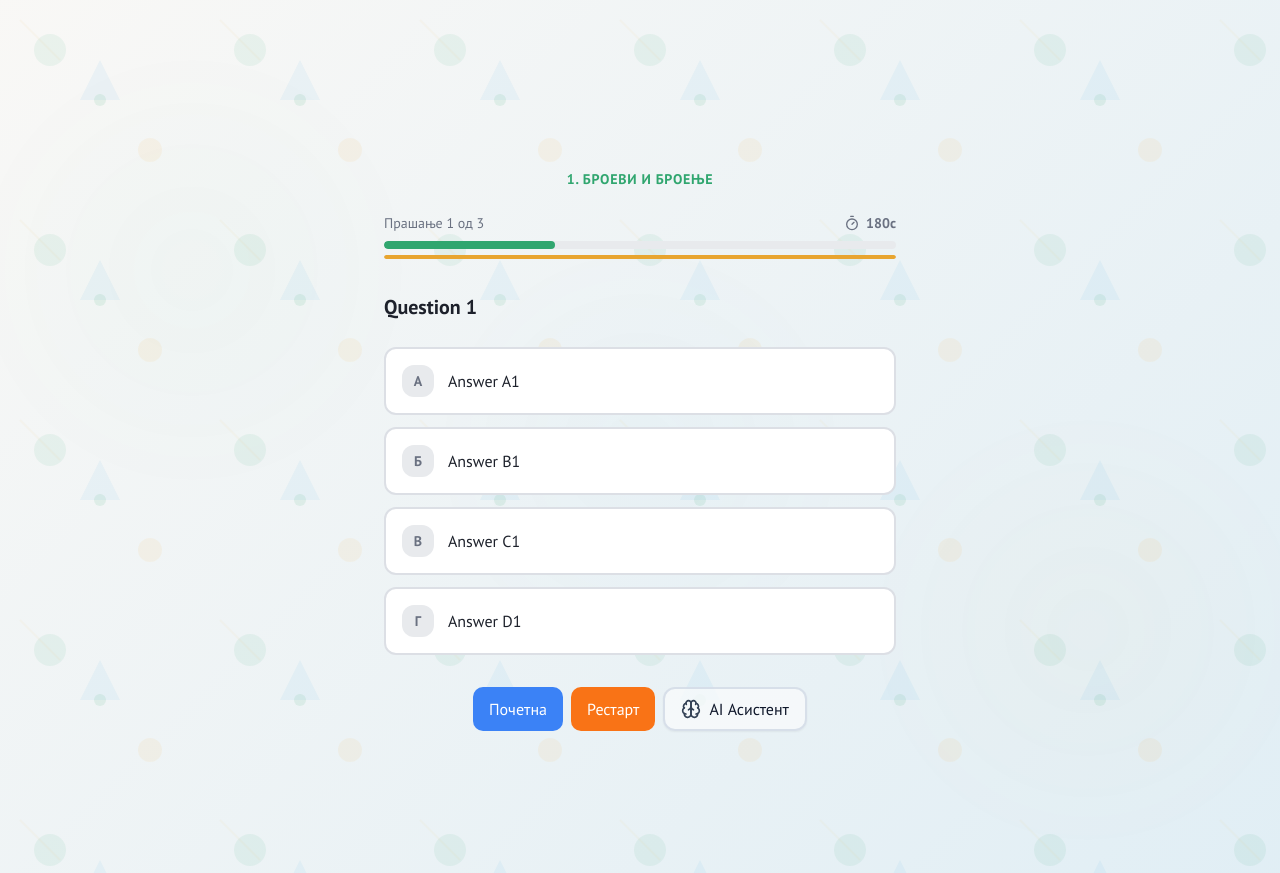
it: paper quiz jokers › keeps jokers out of multiple-choice questions and summaries
Click the button "А Answer A1": {"x": 418, "y": 381} [384, 347, 896, 415]
Wait 1400 ms
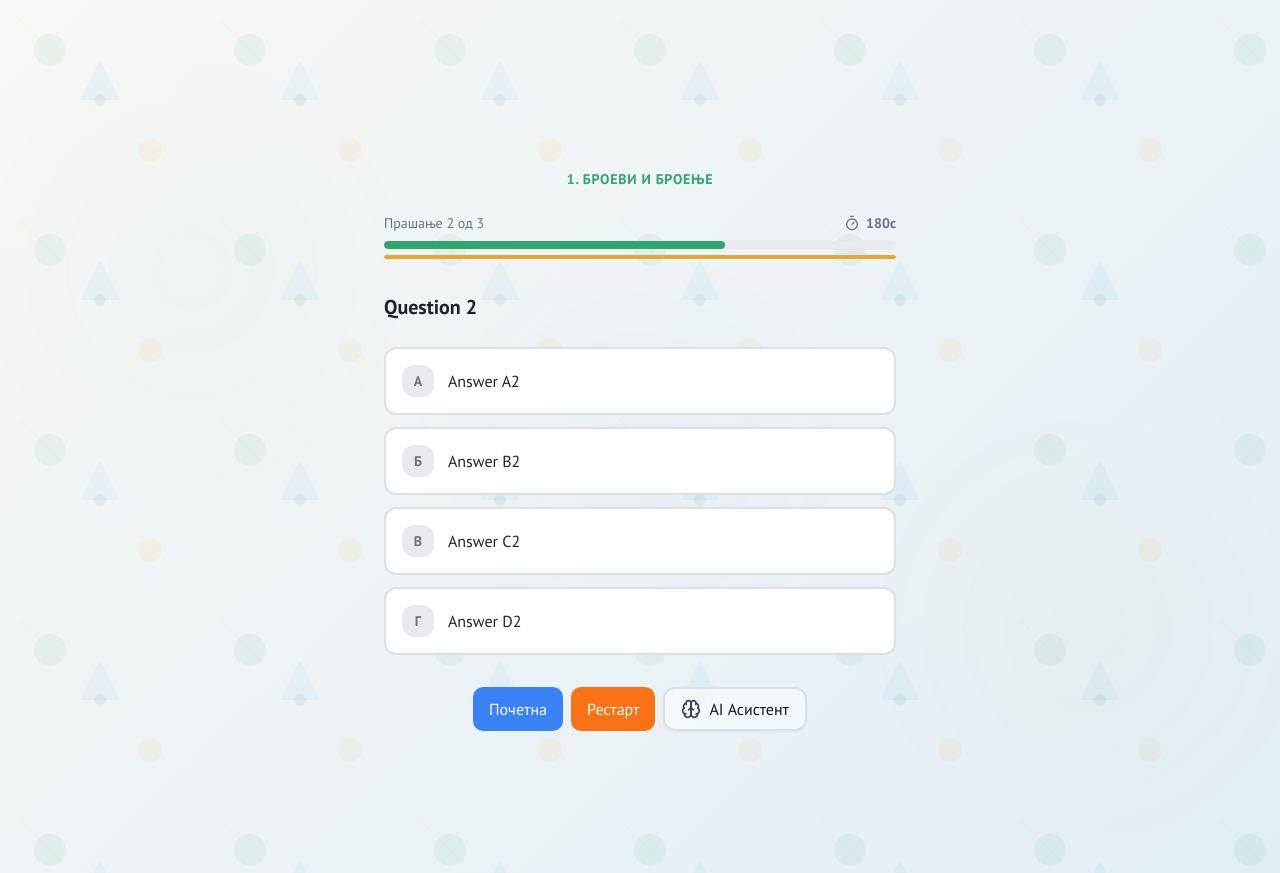
Click the button "А Answer A2": {"x": 418, "y": 381} [384, 347, 896, 415]
Wait 1400 ms
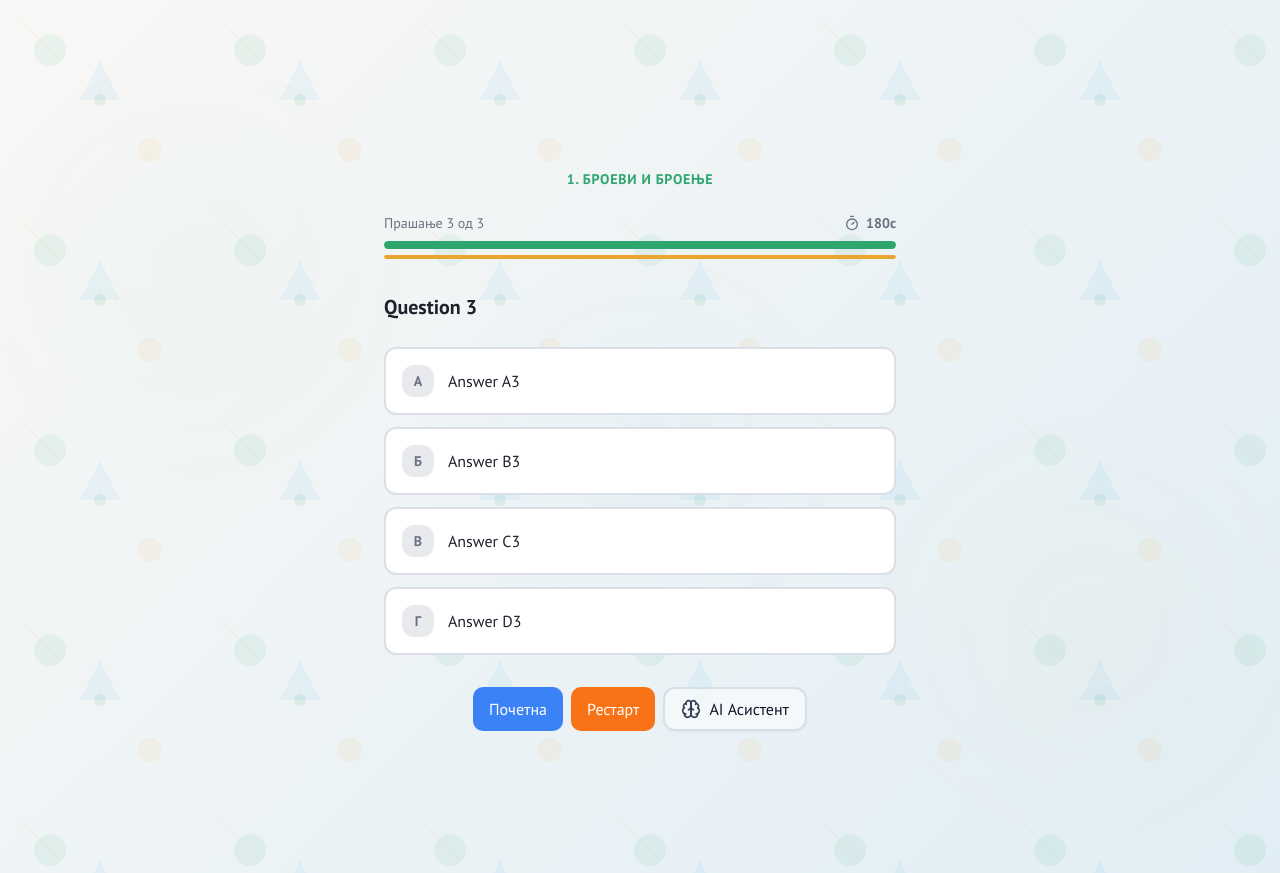
Click the button "А Answer A3": {"x": 418, "y": 381} [384, 347, 896, 415]
Wait 1400 ms
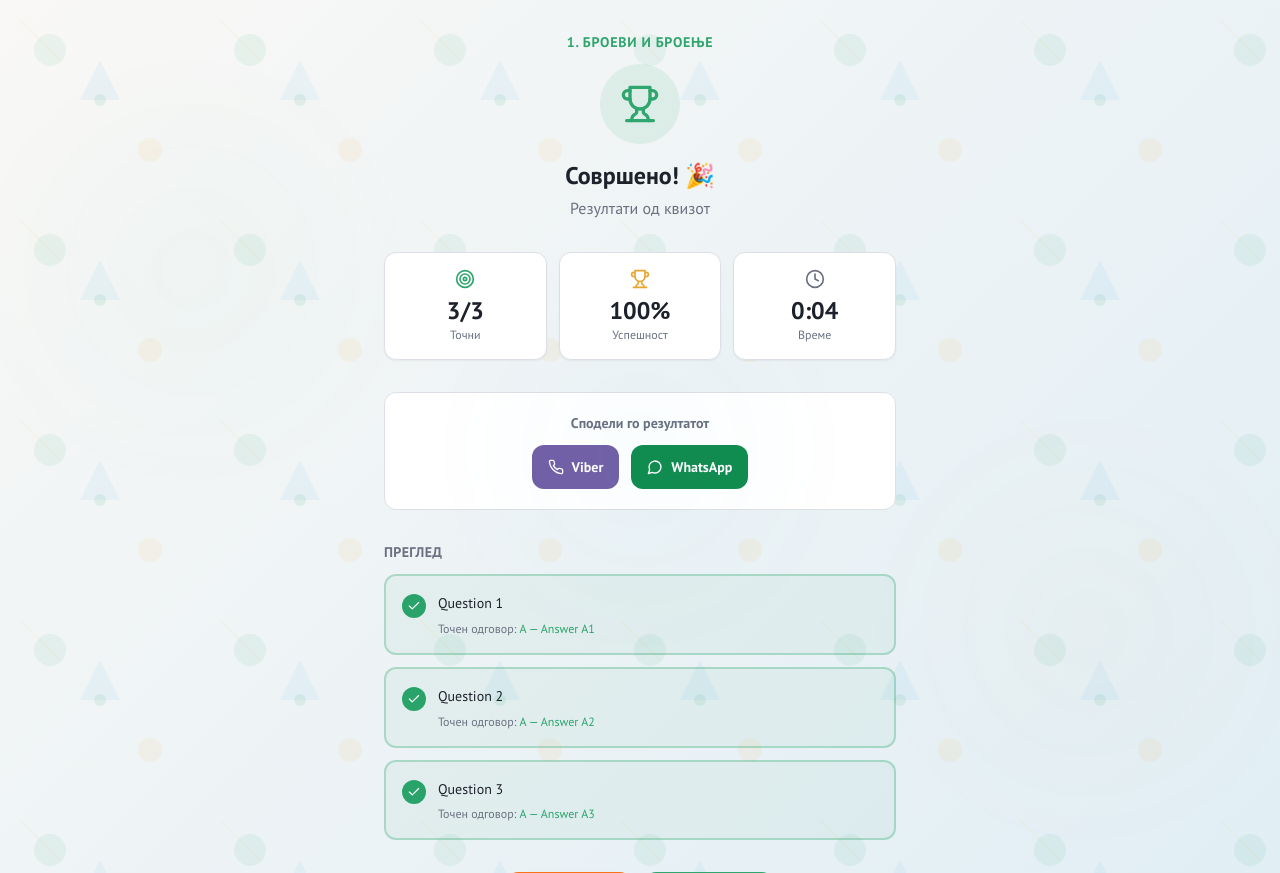
Expected: the text "100%" is shown, [610, 295, 670, 327]
